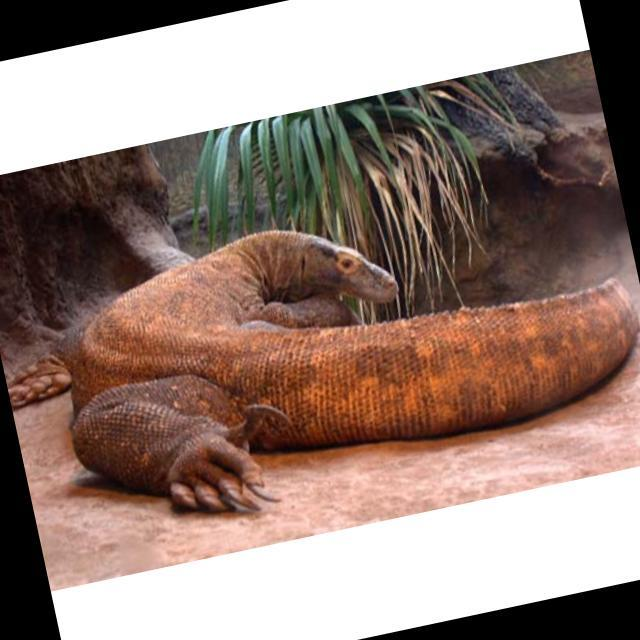KomodoDragon: (34, 160, 640, 551)
